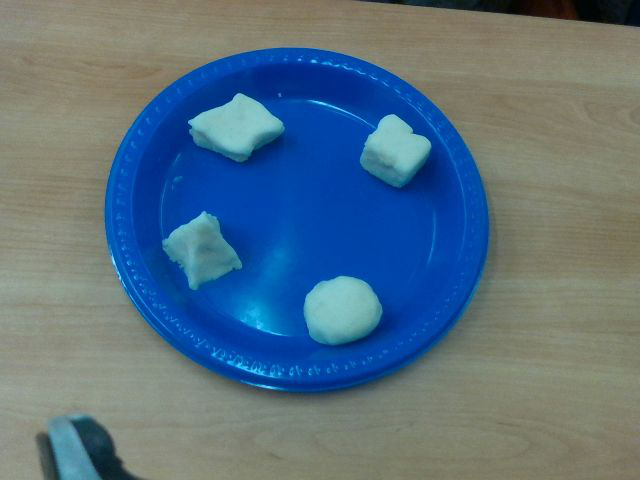mashed_potato: (188, 93, 283, 161), (162, 212, 242, 288), (360, 115, 433, 188), (305, 276, 383, 344)
